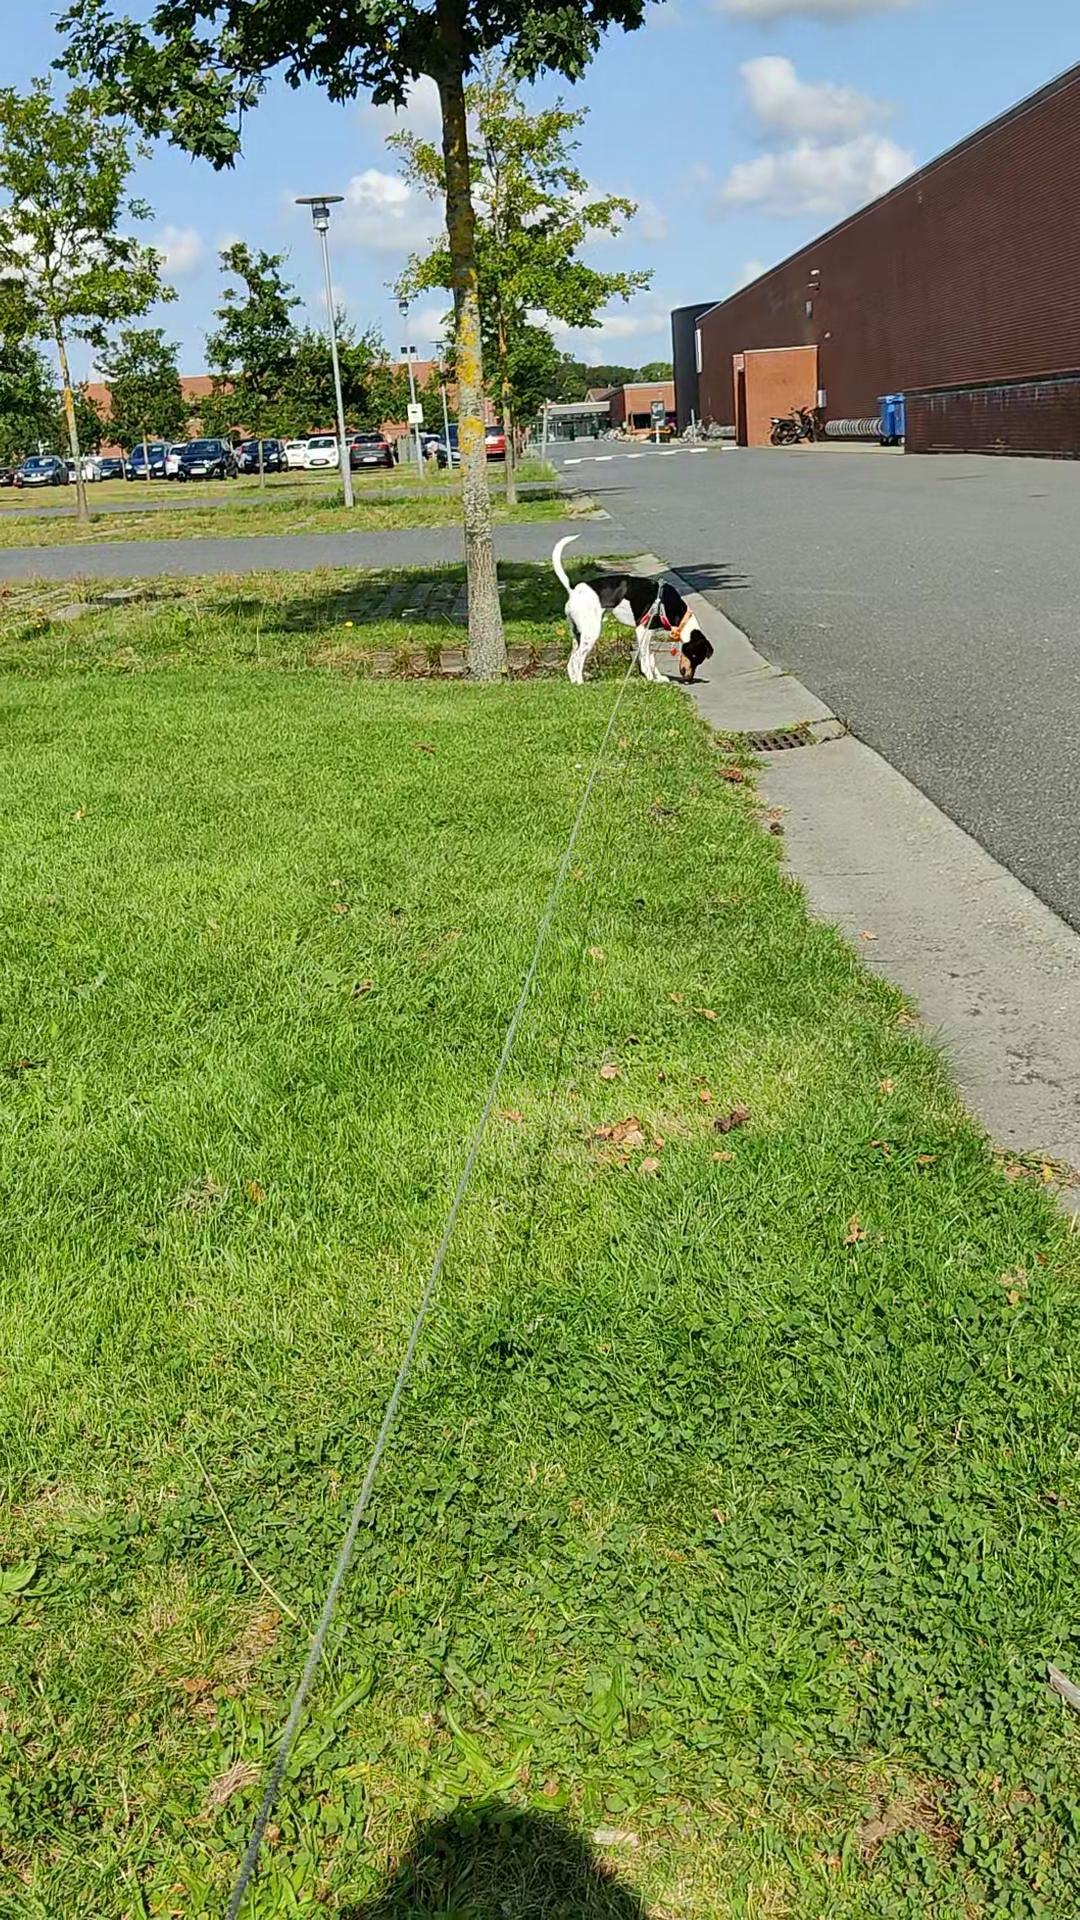Dog: (549, 527, 713, 687)
